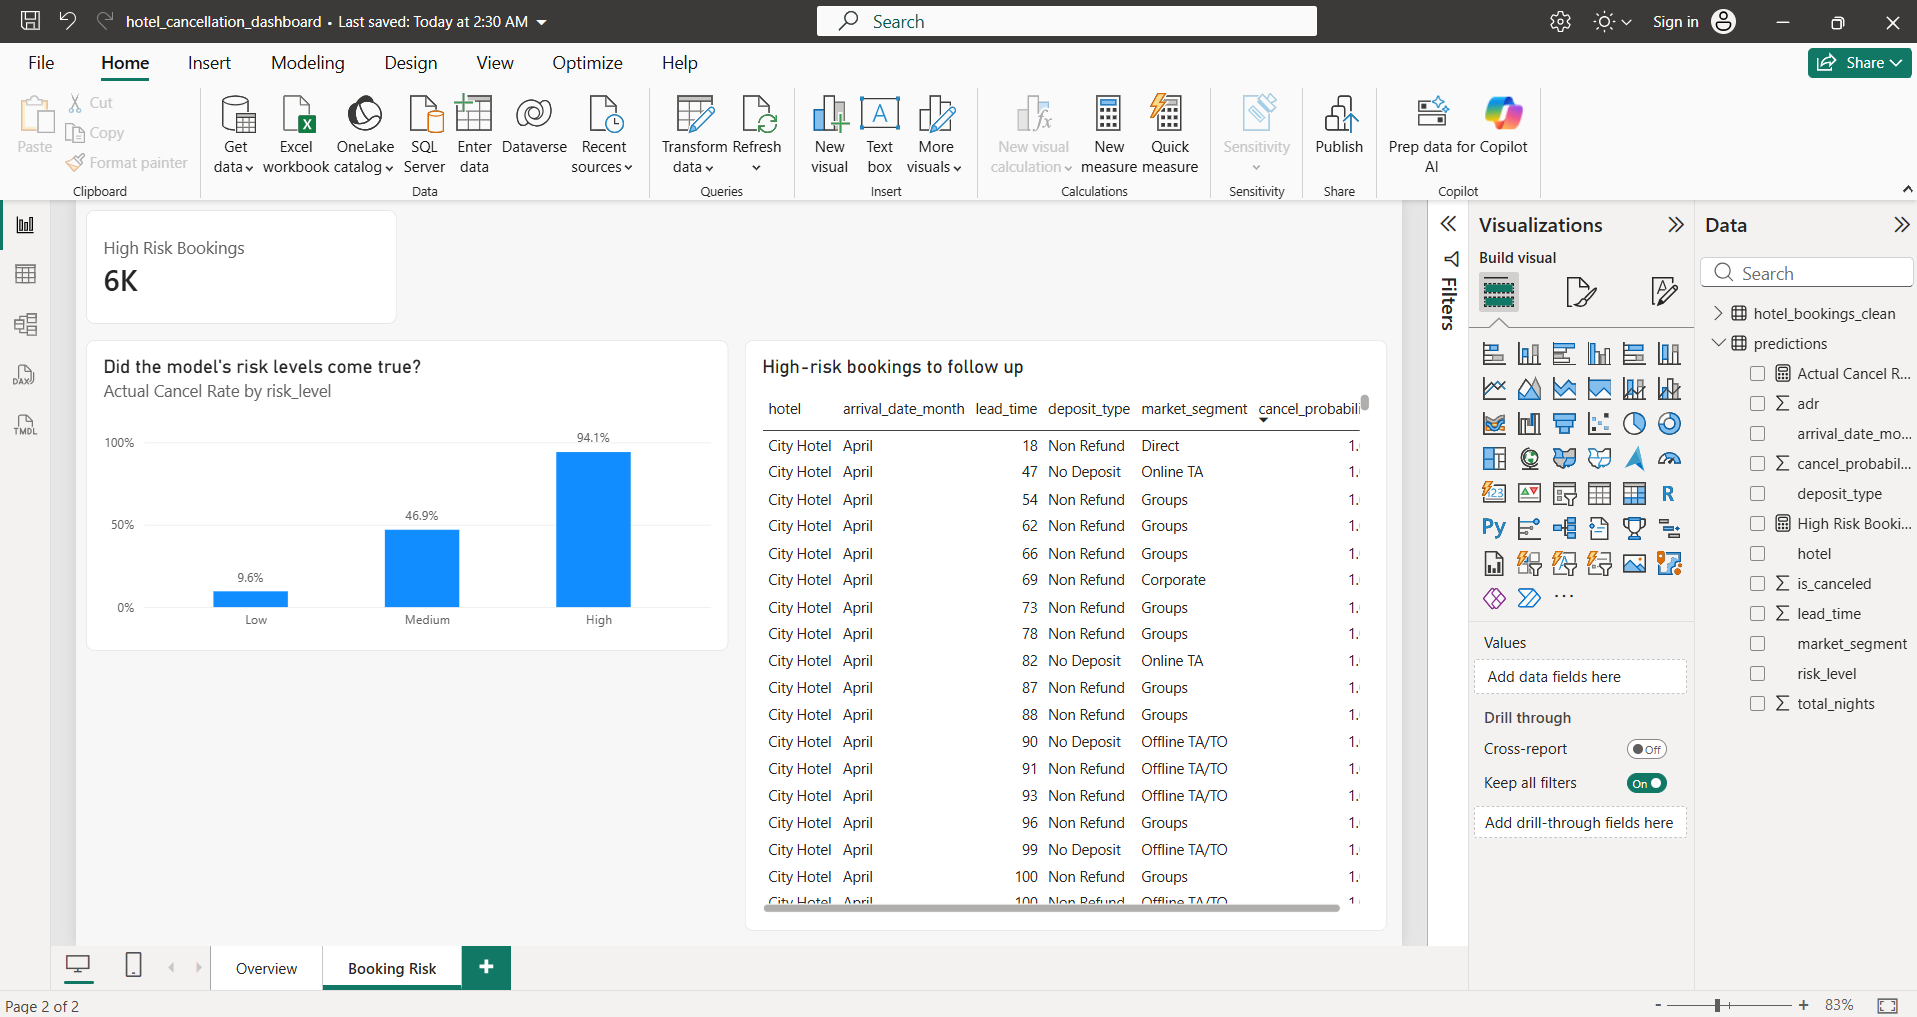

The page's visual inventory and layout, read from the dashboard file:
{"tool":"powerbi","page":{"name":"Booking Risk","canvas":[1280,720],"ordinal":1},"visuals":[{"type":"cardVisual","fields":{"Data":["predictions.High Risk Bookings"]},"box":[10,10,300,110],"z":0},{"type":"clusteredColumnChart","title":"Did the model''s risk levels come true?","fields":{"Category":["predictions.risk_level"],"Y":["predictions.Actual Cancel Rate"]},"box":[10,135,620,300],"z":1000},{"type":"tableEx","title":"High-risk bookings to follow up","fields":{"Values":["predictions.hotel","predictions.arrival_date_month","predictions.lead_time","predictions.deposit_type","predictions.market_segment","predictions.cancel_probability"]},"box":[645,135,620,570],"z":2000}]}

Visuals, with their boxes on the page's 1280x720 design canvas (x1, y1, x2, y2). These are canvas units, not pixel positions in the 1917x1017 screenshot, which may show the page scaled, cropped or inside an application window:
cardVisual - predictions.High Risk Bookings: l=10, t=10, r=310, b=120
"Did the model''s risk levels come true?" clusteredColumnChart: l=10, t=135, r=630, b=435
"High-risk bookings to follow up" tableEx: l=645, t=135, r=1265, b=705
